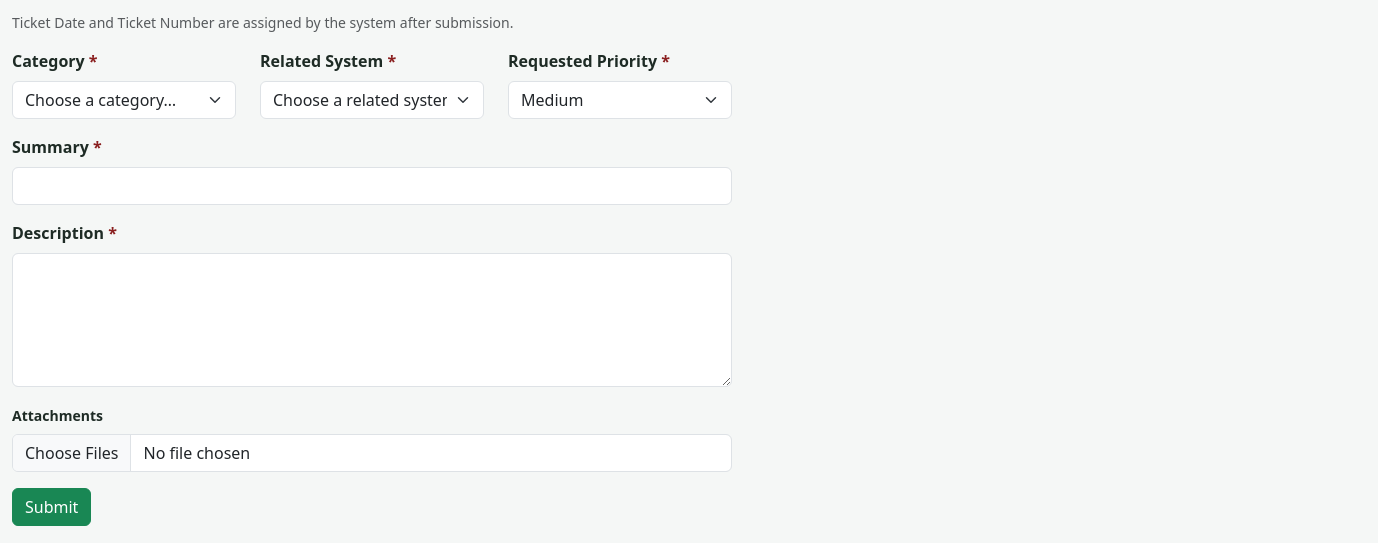
Test: CreateTicket › shows the backend-issued Ticket Number on success
Select "Hardware" in the dropdown labelled "Category *" at (124, 100), box [12,81,236,119]
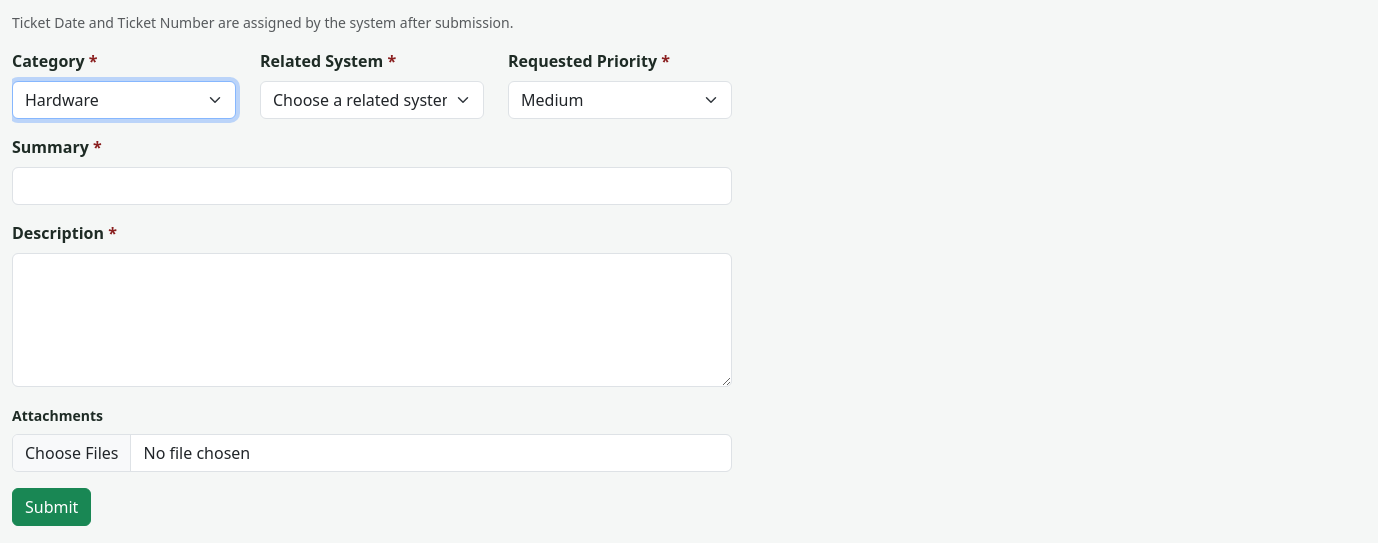
Select "Printer" in the dropdown labelled "Related System *" at (372, 100), box [260,81,484,119]
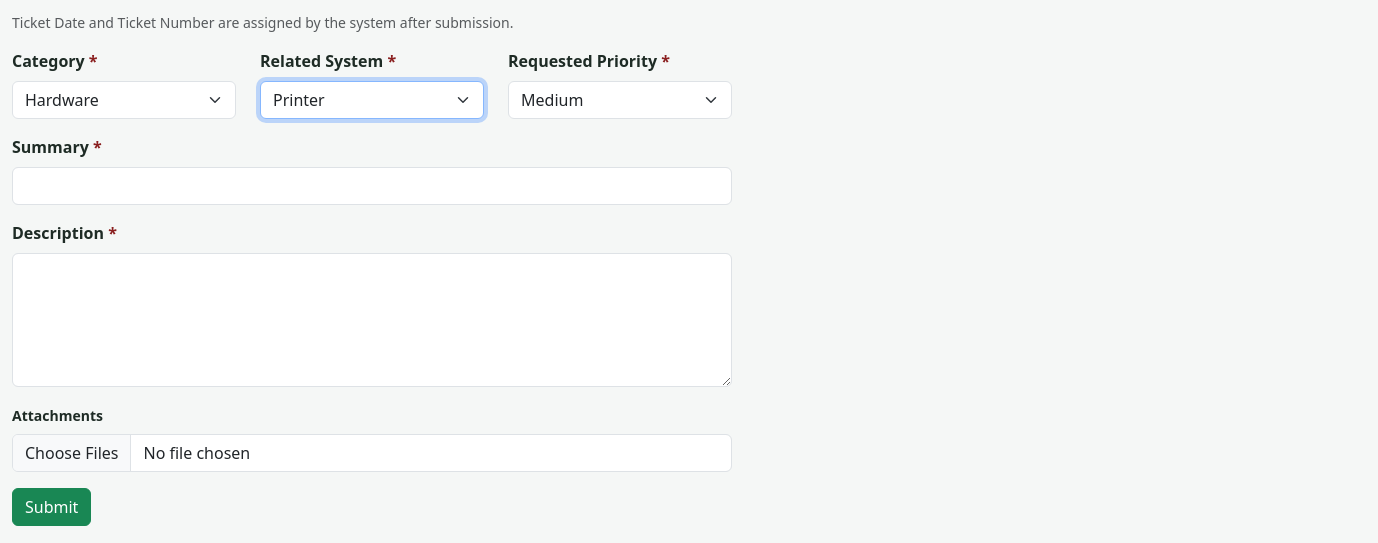
Type "Printer jam" into the field labelled "Summary *" at (372, 186), box [12,167,732,205]
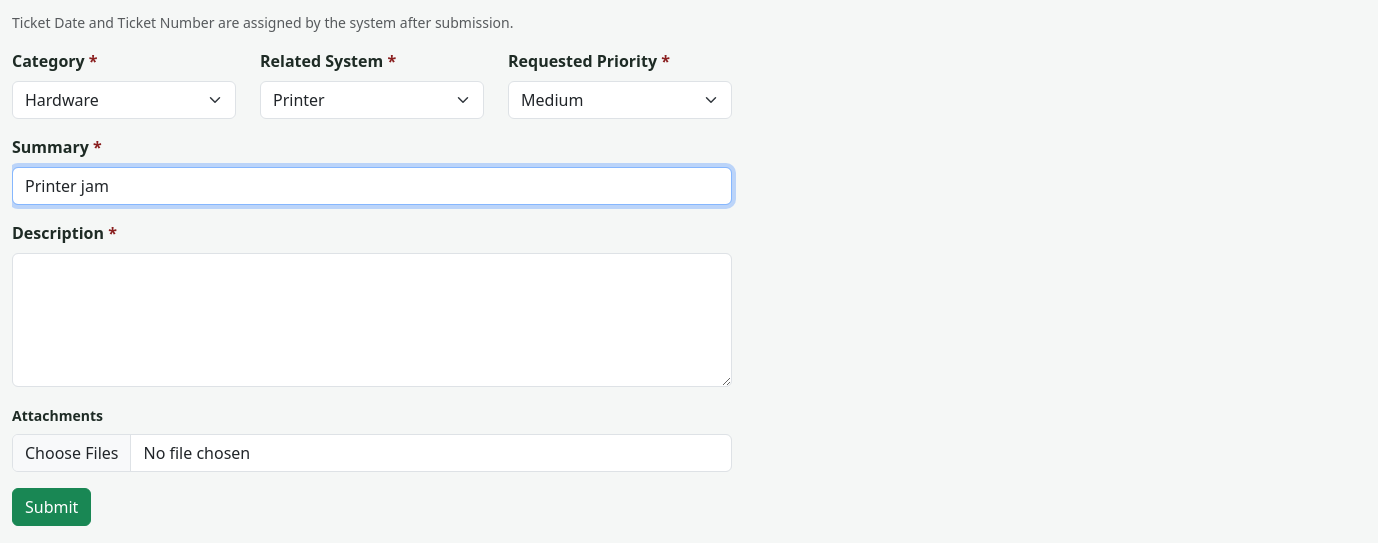
Type "Paper stuck in tray 2" into the text box labelled "Description *" at (372, 320), box [12,253,732,387]
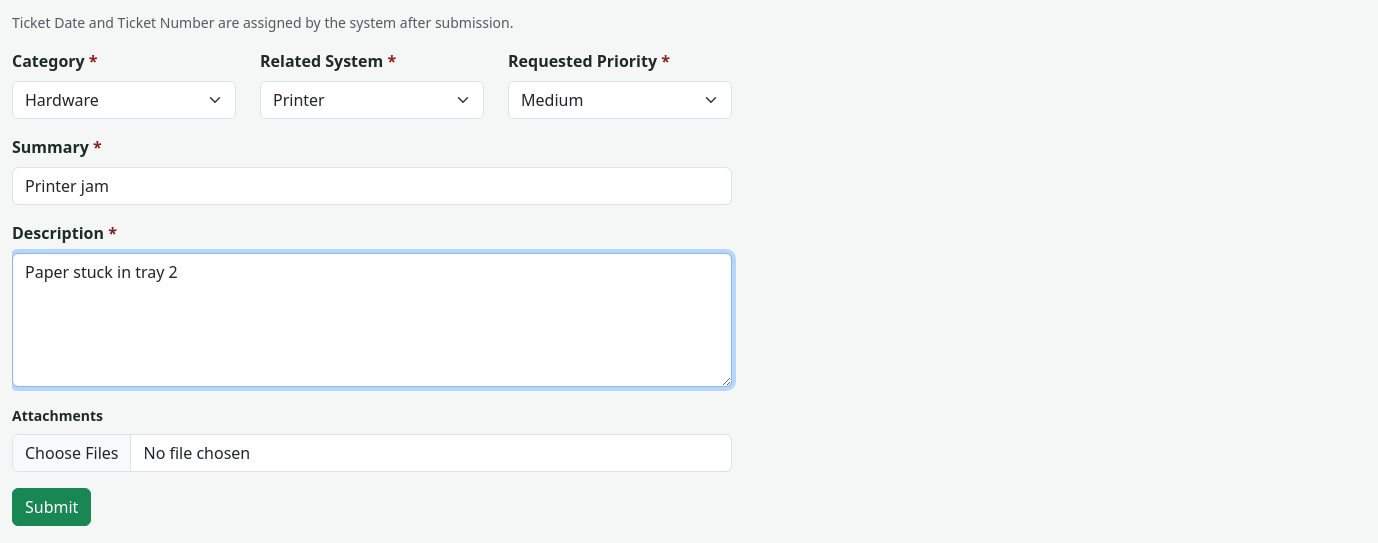
Click the button "Submit" at (52, 507), box [12,488,91,526]
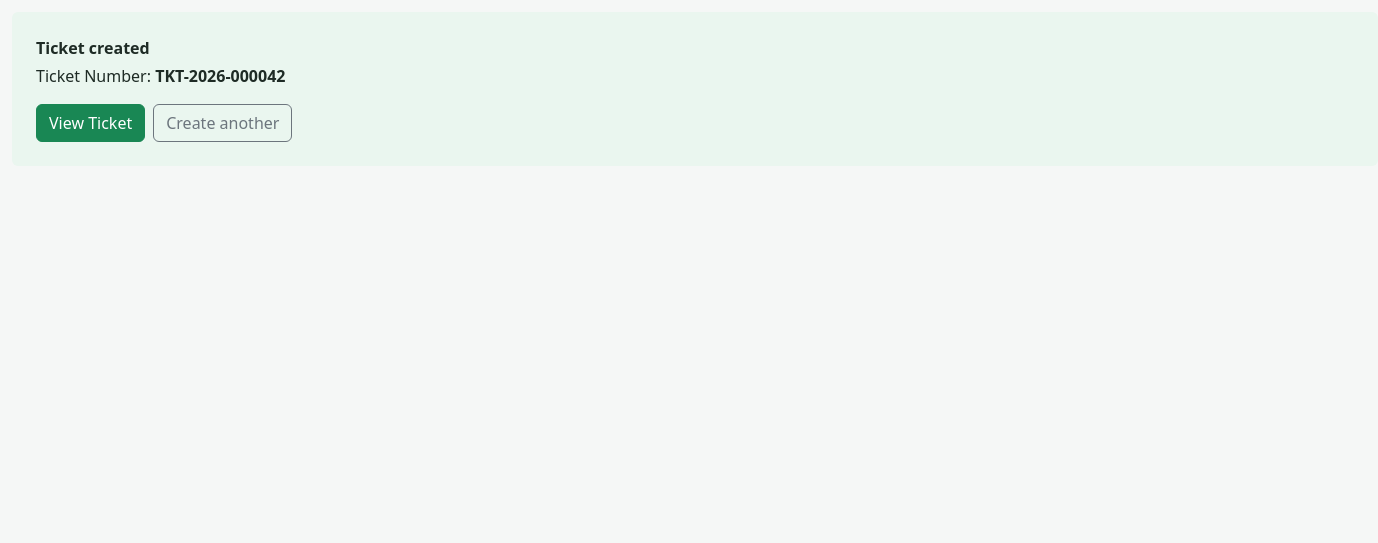
Now the text "TKT-2026-000042" is shown, box [155,65,285,87]
